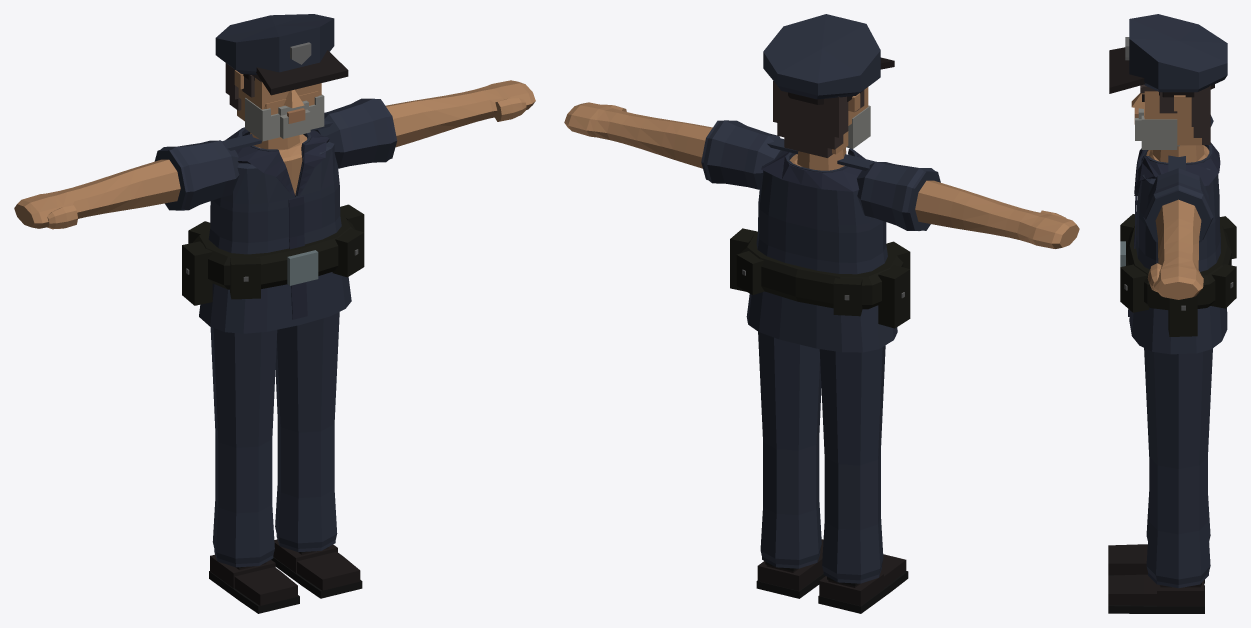
File: police-officer-1cc379.glb
3 renders of one model, left to right at view 1: azimuth 30°, elevation 25°; view 2: azimuth 150°, elevation 25°; view 3: azimuth 270°, elevation 25°, orthographic.
Visible parts, largest first — view 1: police-officer-1cc379; view 2: police-officer-1cc379; view 3: police-officer-1cc379.
Boxes of the visible parts, <box> form: police-officer-1cc379: <box>14,14,535,613</box>; police-officer-1cc379: <box>564,14,1079,613</box>; police-officer-1cc379: <box>1108,14,1236,613</box>.
Size of the model in its own units: 1.67 by 1.79 by 0.3727.
